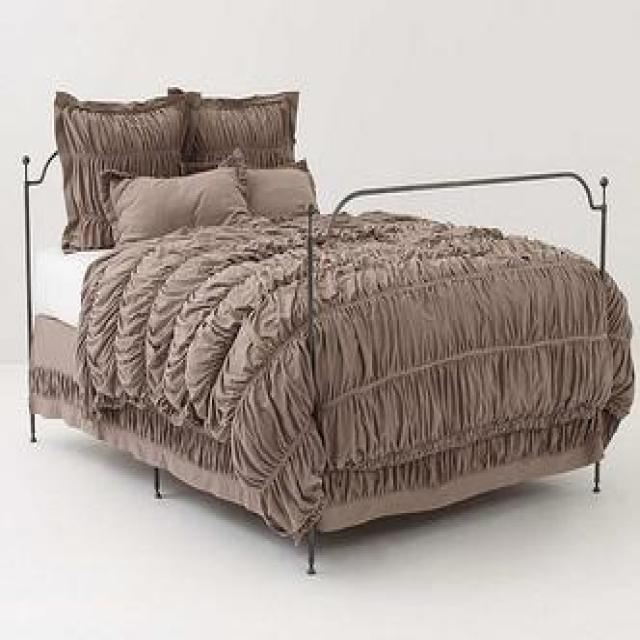bed: (22, 85, 634, 577)
